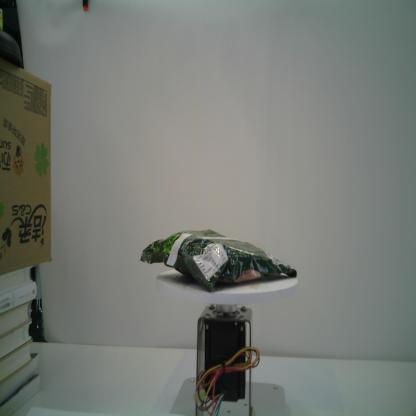Instant Noodles: (139, 226, 299, 295)
